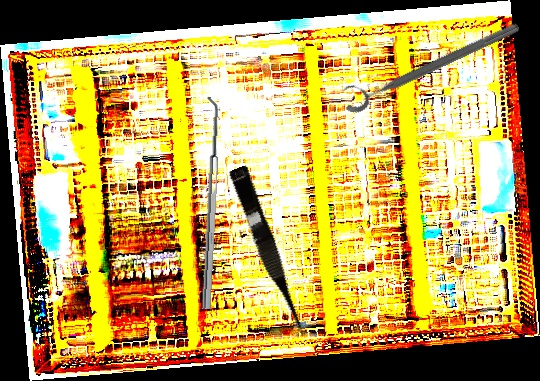Fixation Ring: (336, 8, 523, 117)
Micro Scissor: (225, 164, 310, 339)
Spatula Surgical: (193, 96, 222, 310)
